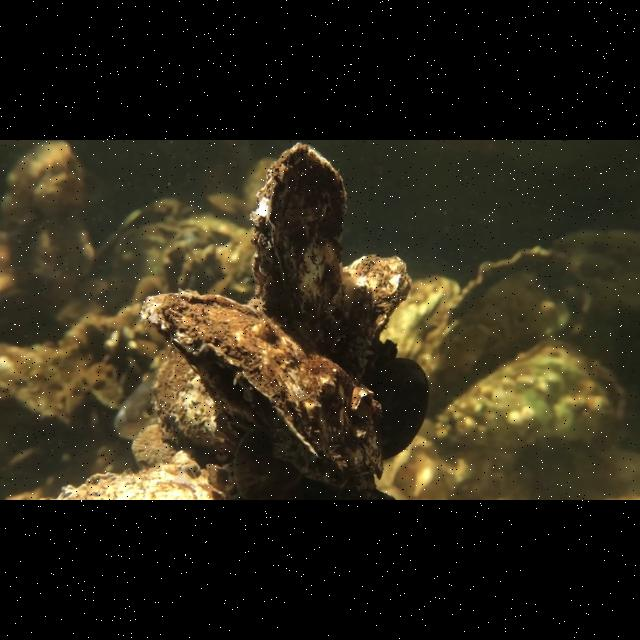Oyster-Closed: (133, 285, 395, 487), (237, 140, 367, 354), (419, 245, 593, 400), (436, 339, 629, 456), (153, 341, 260, 456), (335, 244, 420, 384), (385, 355, 432, 458)
